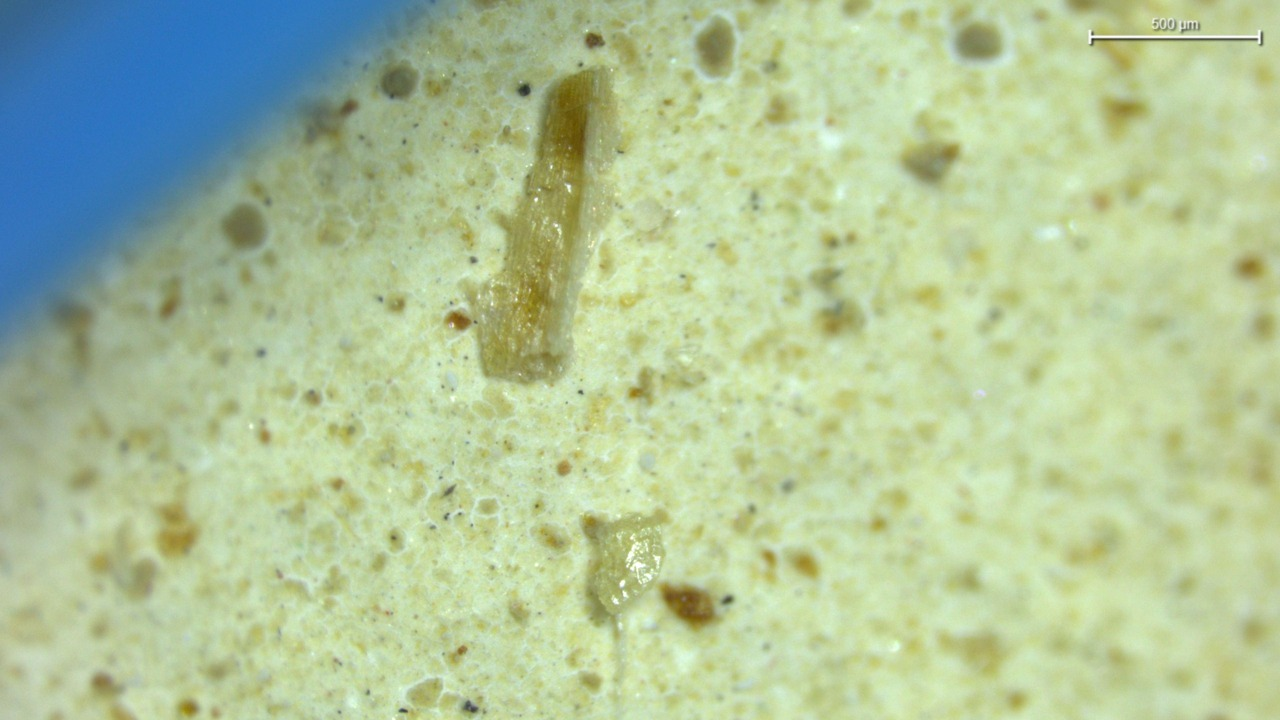microplastic_fragment: (472, 67, 618, 381), (582, 510, 665, 615)
